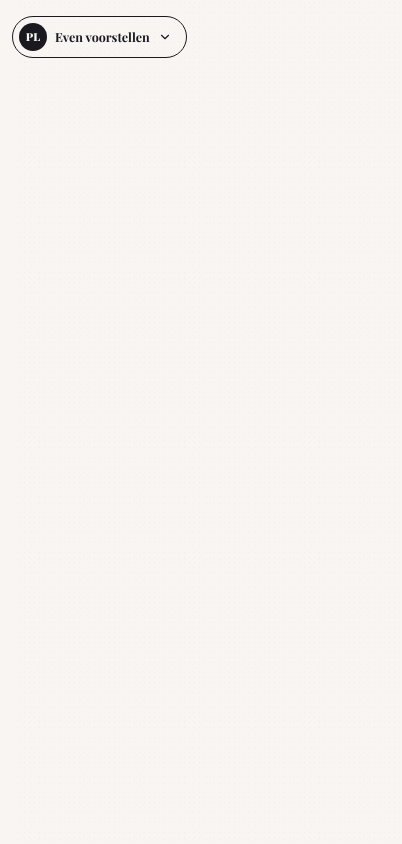
Scenario: PloegleiderIntro › stelt bij de wielergames Lefevere voor, niet Douwe
Click the button: x=99, y=37 [12,16,187,58]
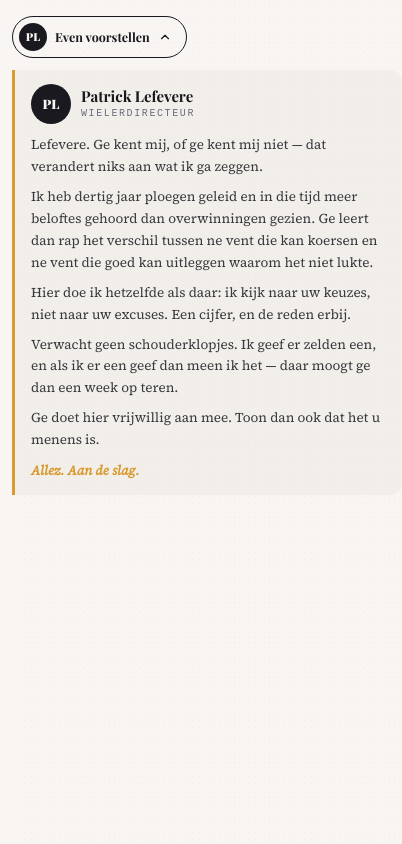
Result: the text "Patrick Lefevere" is shown at [81,87,195,106]
Result: the text "naar uw keuzes, niet naar uw excuses" is shown at [31,283,371,324]
